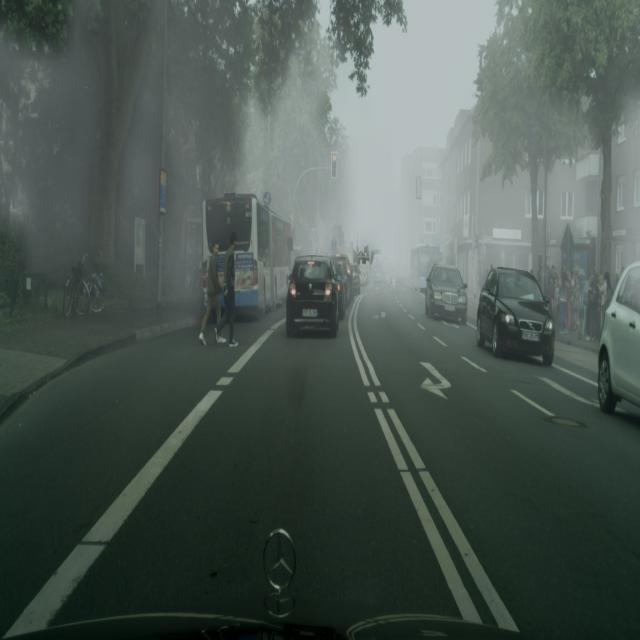bus: (475, 267, 556, 366), (597, 260, 640, 415), (286, 256, 341, 338), (425, 262, 468, 325), (330, 256, 351, 314)
car: (63, 252, 106, 317)
motorcycle: (201, 195, 294, 316), (410, 243, 441, 291)
person: (199, 240, 225, 346), (217, 235, 238, 346), (558, 272, 569, 331), (598, 272, 608, 336)
